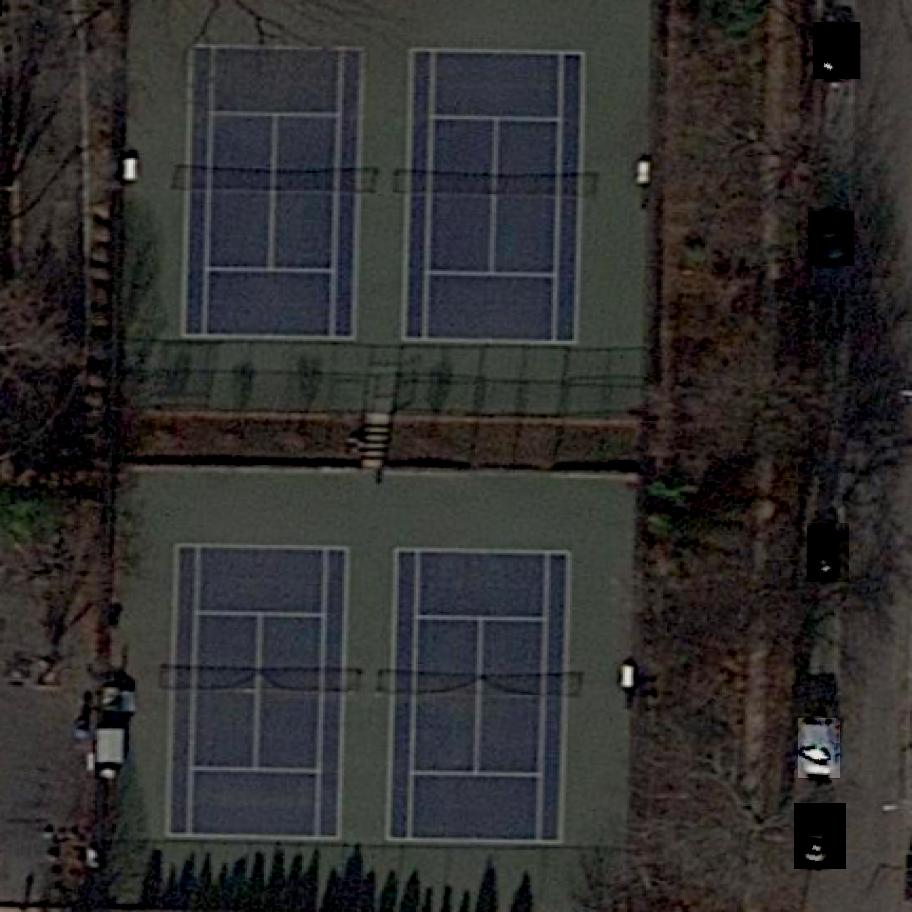small-vehicle: (794, 802, 847, 870), (813, 20, 862, 81), (808, 208, 855, 270), (798, 716, 841, 781), (807, 521, 850, 582)
